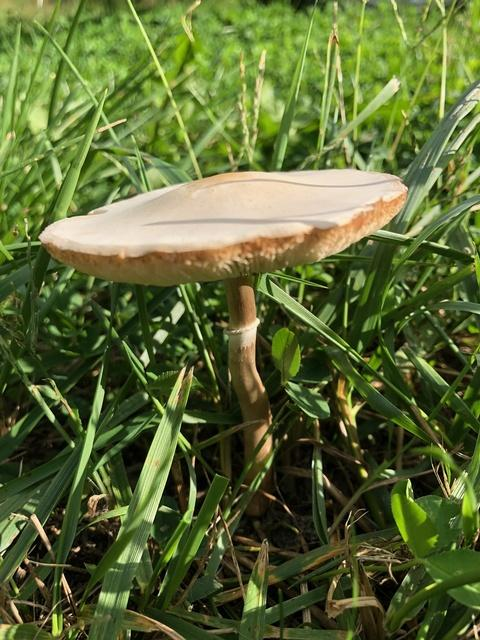poisonous_mushroom: (37, 166, 409, 516)
